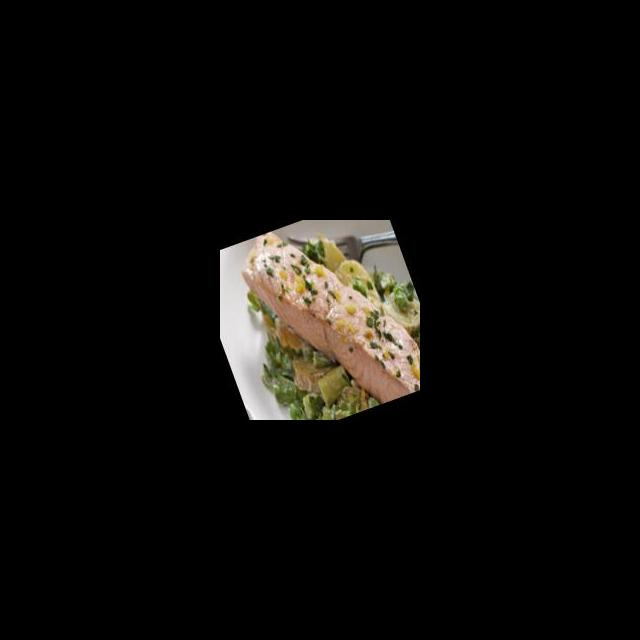ca hoi: (230, 220, 420, 420)
